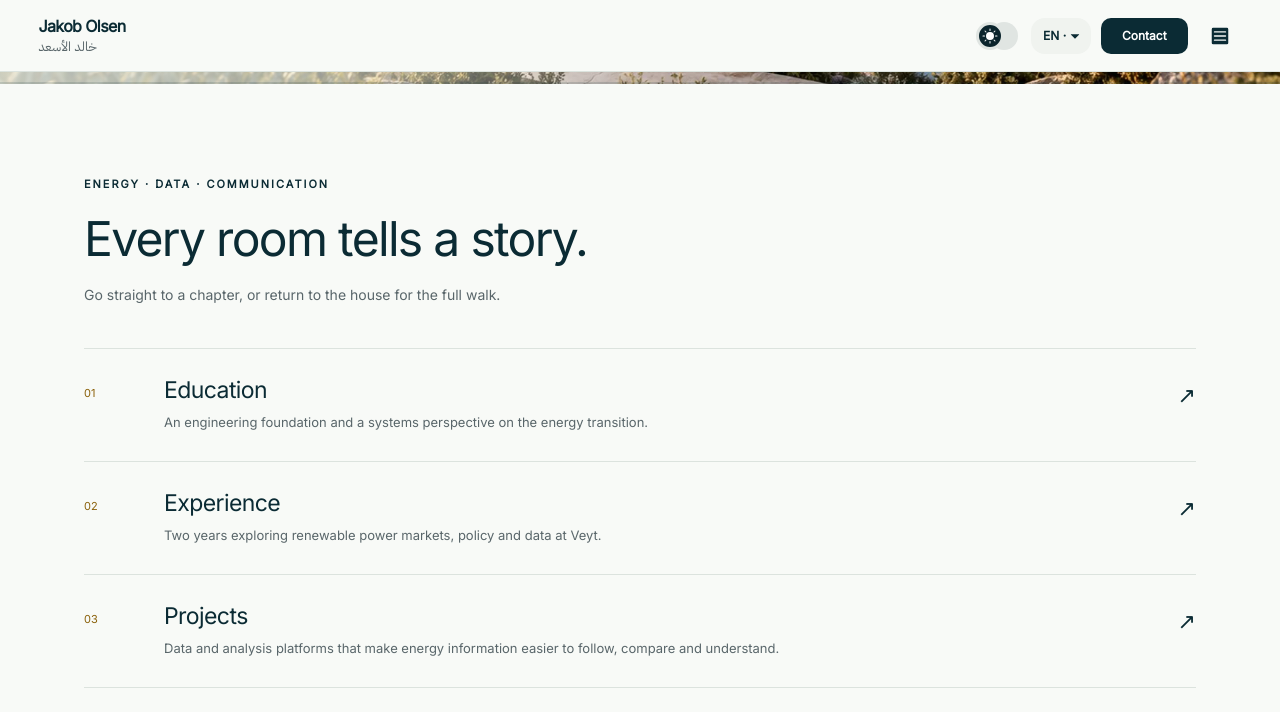
it: house controls preserve content and native gestures › provides the complete portfolio when animation or WebGL is unavailable
(page scrolled)
What coordinates should you click on to do the following:
click the link "Education"
I would click on:
 (216, 390)
Its box is 84,349 -> 1196,462.
(page scrolled)
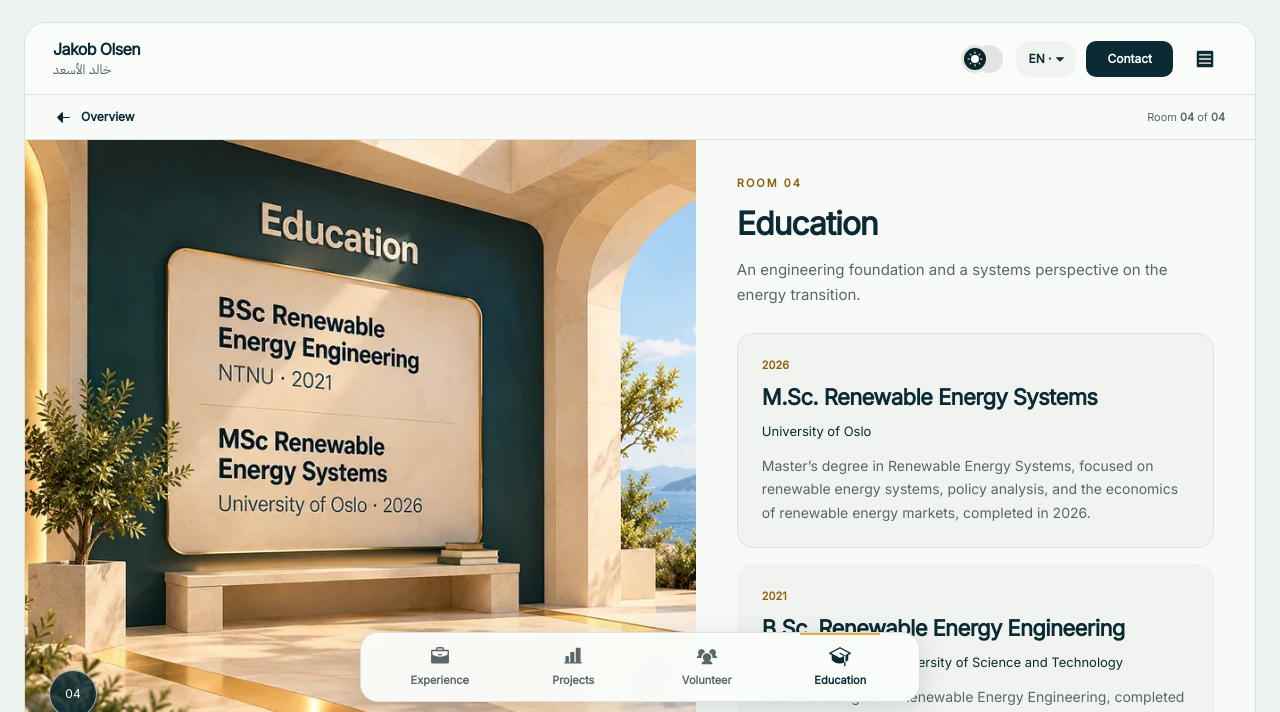
Expected: the heading "Education" is shown, 737,204 -> 878,243
Expected: the text "2026" is shown, 762,358 -> 789,372
